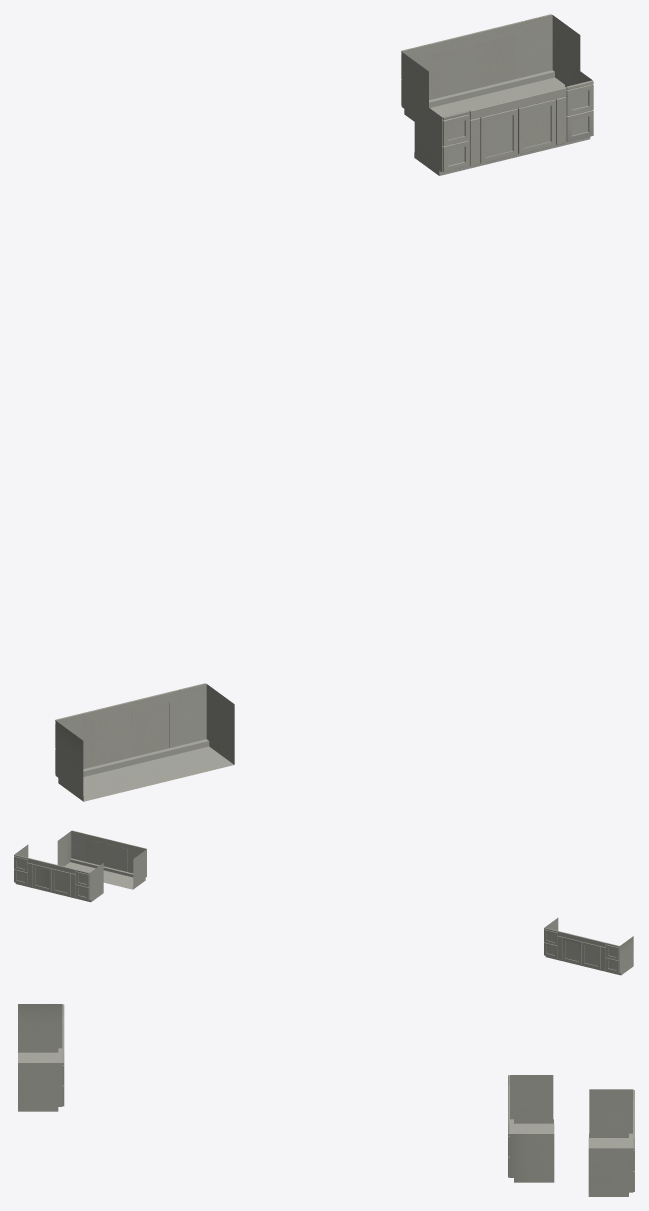
The model's file is 2345_bathroom_Cabinets_Bolder_.gltf.
The picture shows the model from 3 angles, top to bottom: view 1: azimuth 30°, elevation 25°; view 2: azimuth 150°, elevation 25°; view 3: azimuth 270°, elevation 25°; orthographic projection. The views are drawn at different scales.
Parts seen in each view (by area): view 1: Bathroom_Cabinet_Bolder_2345; view 2: Bathroom_Cabinet_Bolder_2345; view 3: Bathroom_Cabinet_Bolder_2345.
Part boxes in pixels (x1,y1,x2,y2): Bathroom_Cabinet_Bolder_2345: (55,14,593,801); Bathroom_Cabinet_Bolder_2345: (14,830,633,975); Bathroom_Cabinet_Bolder_2345: (18,1004,634,1196).
Size of the model in its own units: 16.16 by 5.37 by 12.73.
1 material, 1 textured.
